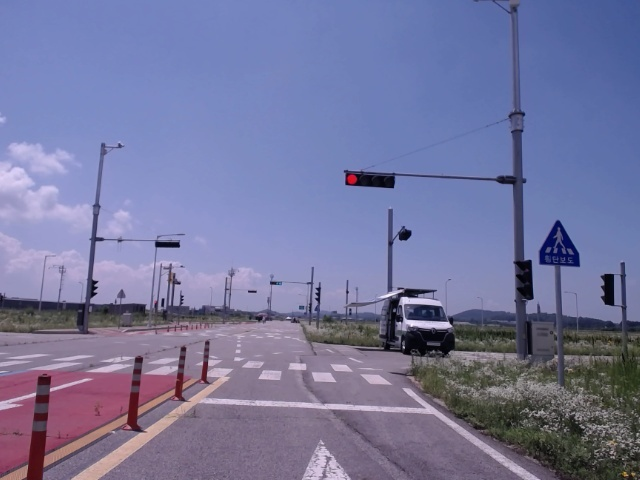red_4: (344, 173, 394, 188)
